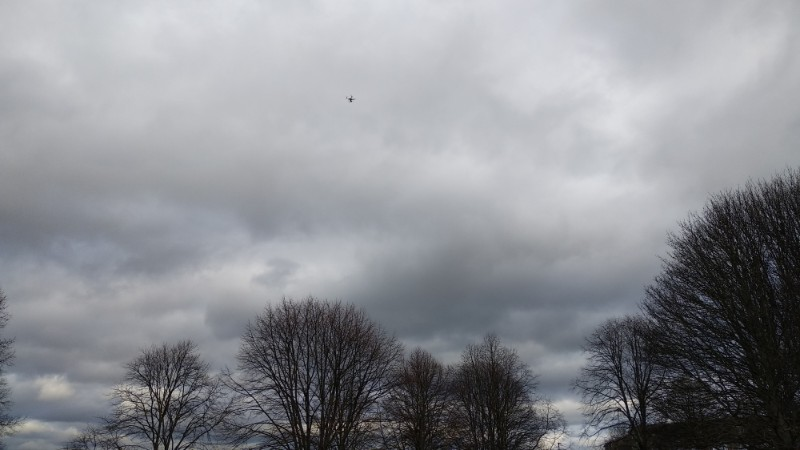drone: (345, 94, 354, 102)
